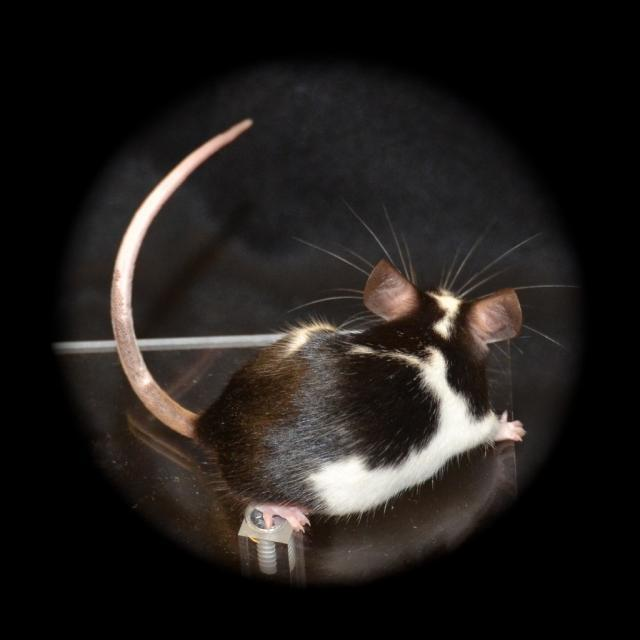rat: (110, 117, 528, 531)
